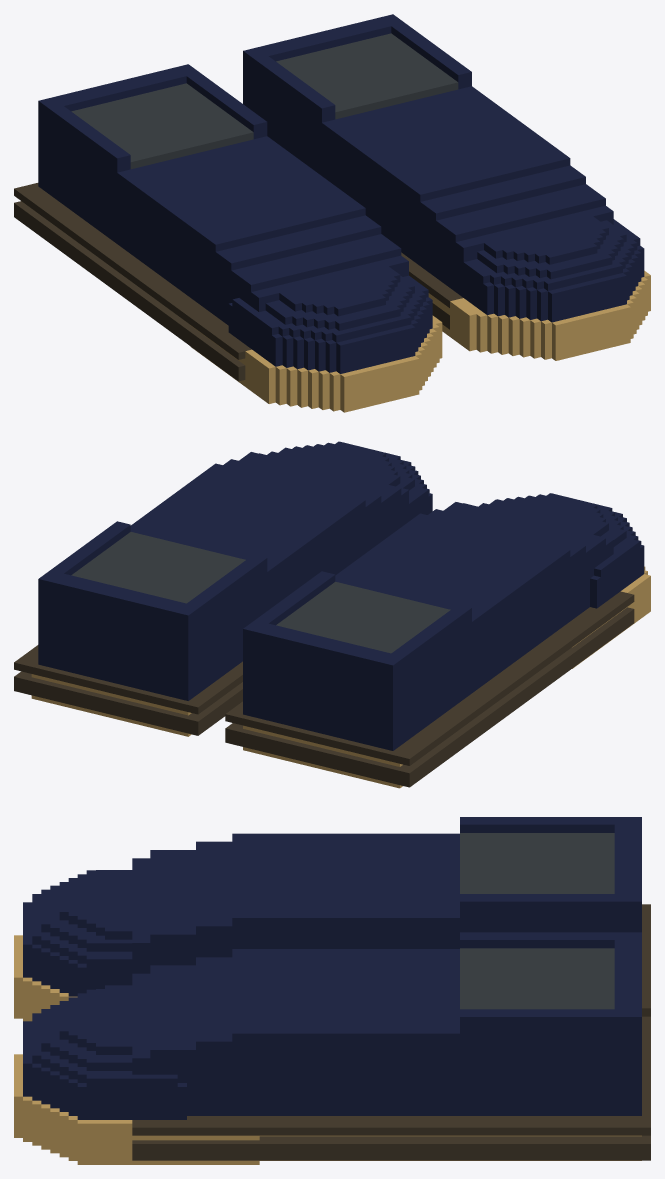
The model's file is espadrilles.glb.
The picture shows the model from 3 angles, top to bottom: view 1: azimuth 30°, elevation 25°; view 2: azimuth 150°, elevation 25°; view 3: azimuth 270°, elevation 25°; orthographic projection. The views are drawn at different scales.
Parts seen in each view (by area): view 1: espadrilles:compound; view 2: espadrilles:compound; view 3: espadrilles:compound.
Part boxes in pixels (x1=…): espadrilles:compound: x1=14, y1=14, x2=650, y2=412; espadrilles:compound: x1=14, y1=441, x2=650, y2=788; espadrilles:compound: x1=14, y1=817, x2=650, y2=1164.
Size of the model in its own units: 0.232 by 0.068 by 0.28.
